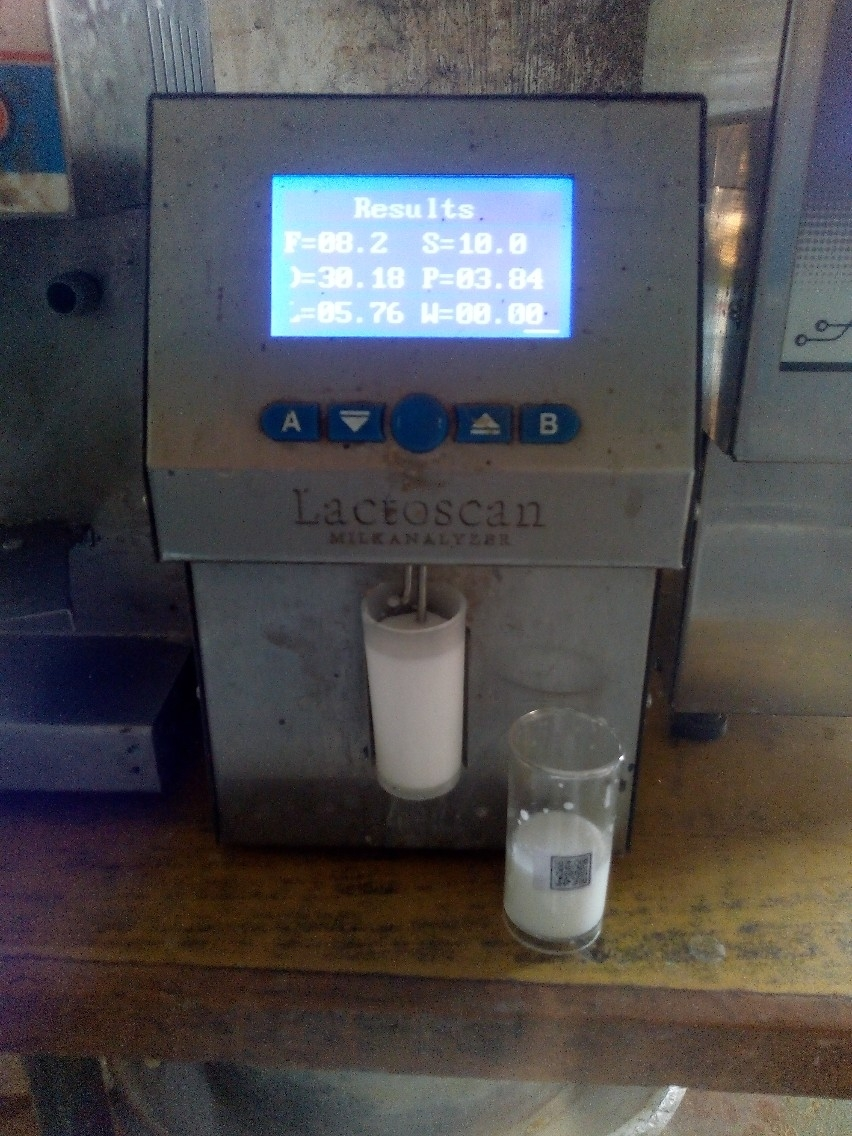lcd: (255, 157, 583, 357)
qr: (545, 847, 598, 895)
